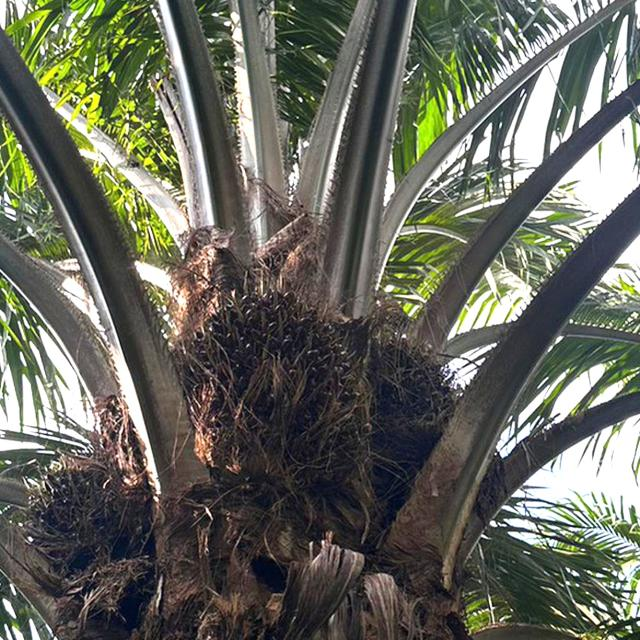unripe: (159, 266, 386, 512), (334, 303, 493, 496), (14, 435, 178, 621)
